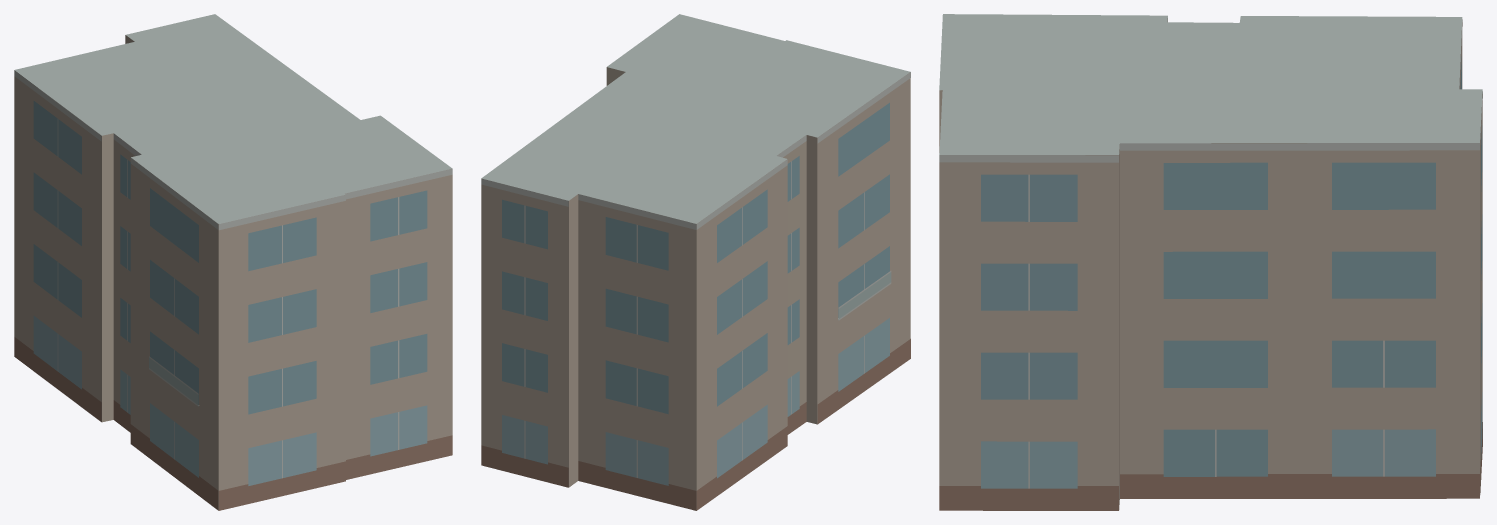
Rendered from survey-upis-32632243.glb.
The picture shows the model from 3 angles, left to right: view 1: azimuth 30°, elevation 25°; view 2: azimuth 150°, elevation 25°; view 3: azimuth 270°, elevation 25°; orthographic projection. The views are drawn at different scales.
Visible parts, largest first — view 1: survey-upis-32632243.tmp; view 2: survey-upis-32632243.tmp; view 3: survey-upis-32632243.tmp.
Boxes of the visible parts, x1,y1,x2,y2 form: survey-upis-32632243.tmp: (14, 14, 452, 510); survey-upis-32632243.tmp: (481, 14, 910, 510); survey-upis-32632243.tmp: (939, 14, 1482, 510).
Size of the model in its own units: 9.8 by 11.5 by 15.93.
